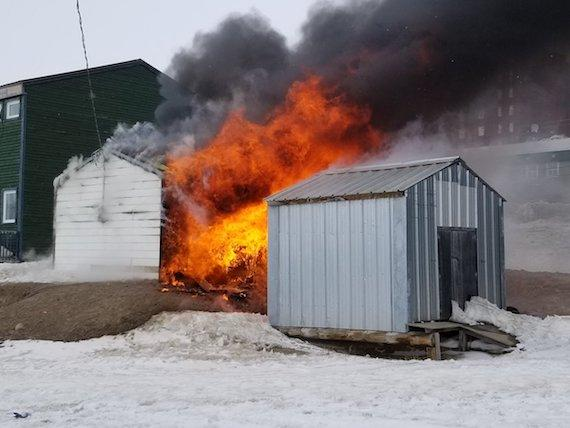Fire: (155, 76, 401, 315)
